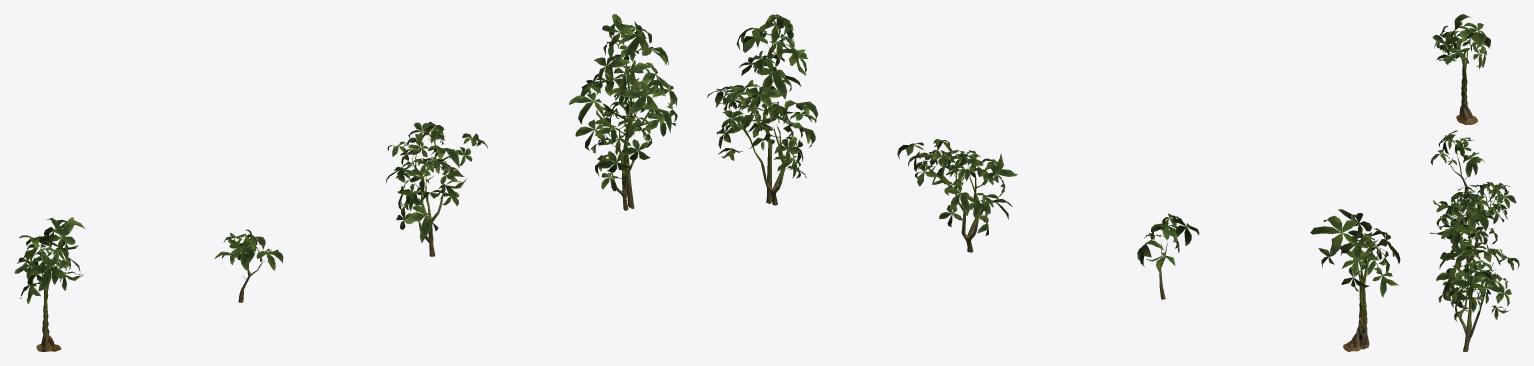
Rendered from pachira_aquatica_01.glb.
The picture shows the model from 3 angles, left to right: view 1: azimuth 30°, elevation 25°; view 2: azimuth 150°, elevation 25°; view 3: azimuth 270°, elevation 25°; orthographic projection. The views are drawn at different scales.
Visible parts, largest first — view 1: pachira_aquatica_01_leaves_d, pachira_aquatica_01_leaves_c, pachira_aquatica_01_leaves_a, pachira_aquatica_01_leaves_b, pachira_aquatica_01_bark_d, pachira_aquatica_01_bark_c, pachira_aquatica_01_bark_a; view 2: pachira_aquatica_01_leaves_d, pachira_aquatica_01_leaves_c, pachira_aquatica_01_leaves_a, pachira_aquatica_01_leaves_b, pachira_aquatica_01_bark_d, pachira_aquatica_01_bark_a, pachira_aquatica_01_bark_c; view 3: pachira_aquatica_01_leaves_d, pachira_aquatica_01_leaves_c, pachira_aquatica_01_leaves_a, pachira_aquatica_01_leaves_b, pachira_aquatica_01_bark_d, pachira_aquatica_01_bark_a, pachira_aquatica_01_bark_c, pachira_aquatica_01_bark_b.
Boxes of the visible parts, bbox=[...] form: pachira_aquatica_01_leaves_d: bbox=[569, 14, 677, 191]; pachira_aquatica_01_leaves_c: bbox=[386, 121, 487, 243]; pachira_aquatica_01_leaves_a: bbox=[14, 217, 84, 303]; pachira_aquatica_01_leaves_b: bbox=[214, 229, 283, 278]; pachira_aquatica_01_bark_d: bbox=[600, 55, 652, 210]; pachira_aquatica_01_bark_c: bbox=[412, 138, 457, 256]; pachira_aquatica_01_bark_a: bbox=[36, 265, 61, 351]; pachira_aquatica_01_leaves_d: bbox=[707, 14, 817, 178]; pachira_aquatica_01_leaves_c: bbox=[897, 139, 1017, 235]; pachira_aquatica_01_leaves_a: bbox=[1310, 209, 1400, 297]; pachira_aquatica_01_leaves_b: bbox=[1137, 213, 1199, 273]; pachira_aquatica_01_bark_d: bbox=[729, 43, 793, 205]; pachira_aquatica_01_bark_a: bbox=[1343, 259, 1369, 351]; pachira_aquatica_01_bark_c: bbox=[923, 160, 986, 252]; pachira_aquatica_01_leaves_d: bbox=[1429, 190, 1519, 322]; pachira_aquatica_01_leaves_c: bbox=[1433, 182, 1516, 244]; pachira_aquatica_01_leaves_a: bbox=[1432, 14, 1490, 69]; pachira_aquatica_01_leaves_b: bbox=[1430, 130, 1484, 179]; pachira_aquatica_01_bark_d: bbox=[1455, 219, 1493, 351]; pachira_aquatica_01_bark_a: bbox=[1456, 50, 1477, 125]; pachira_aquatica_01_bark_c: bbox=[1454, 194, 1497, 268]; pachira_aquatica_01_bark_b: bbox=[1448, 149, 1468, 195].
Size of the model in its own units: 6.87 by 1.9 by 0.997.
2 materials, 2 textured.
